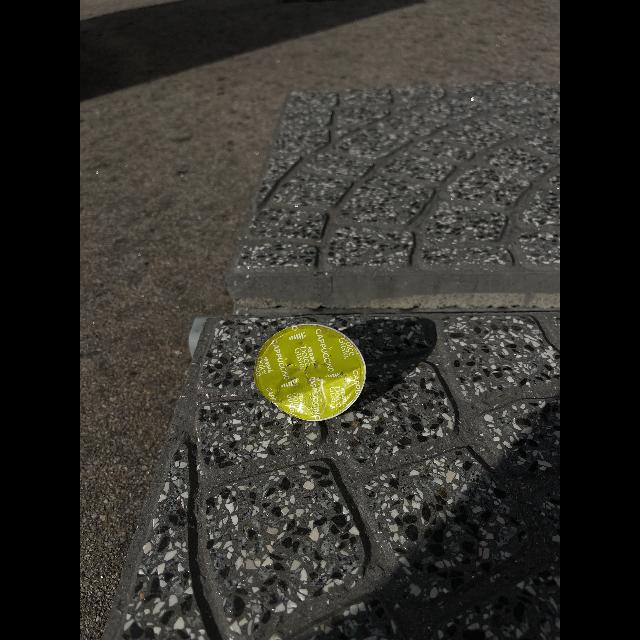damaged_capsule: (250, 318, 372, 428)
